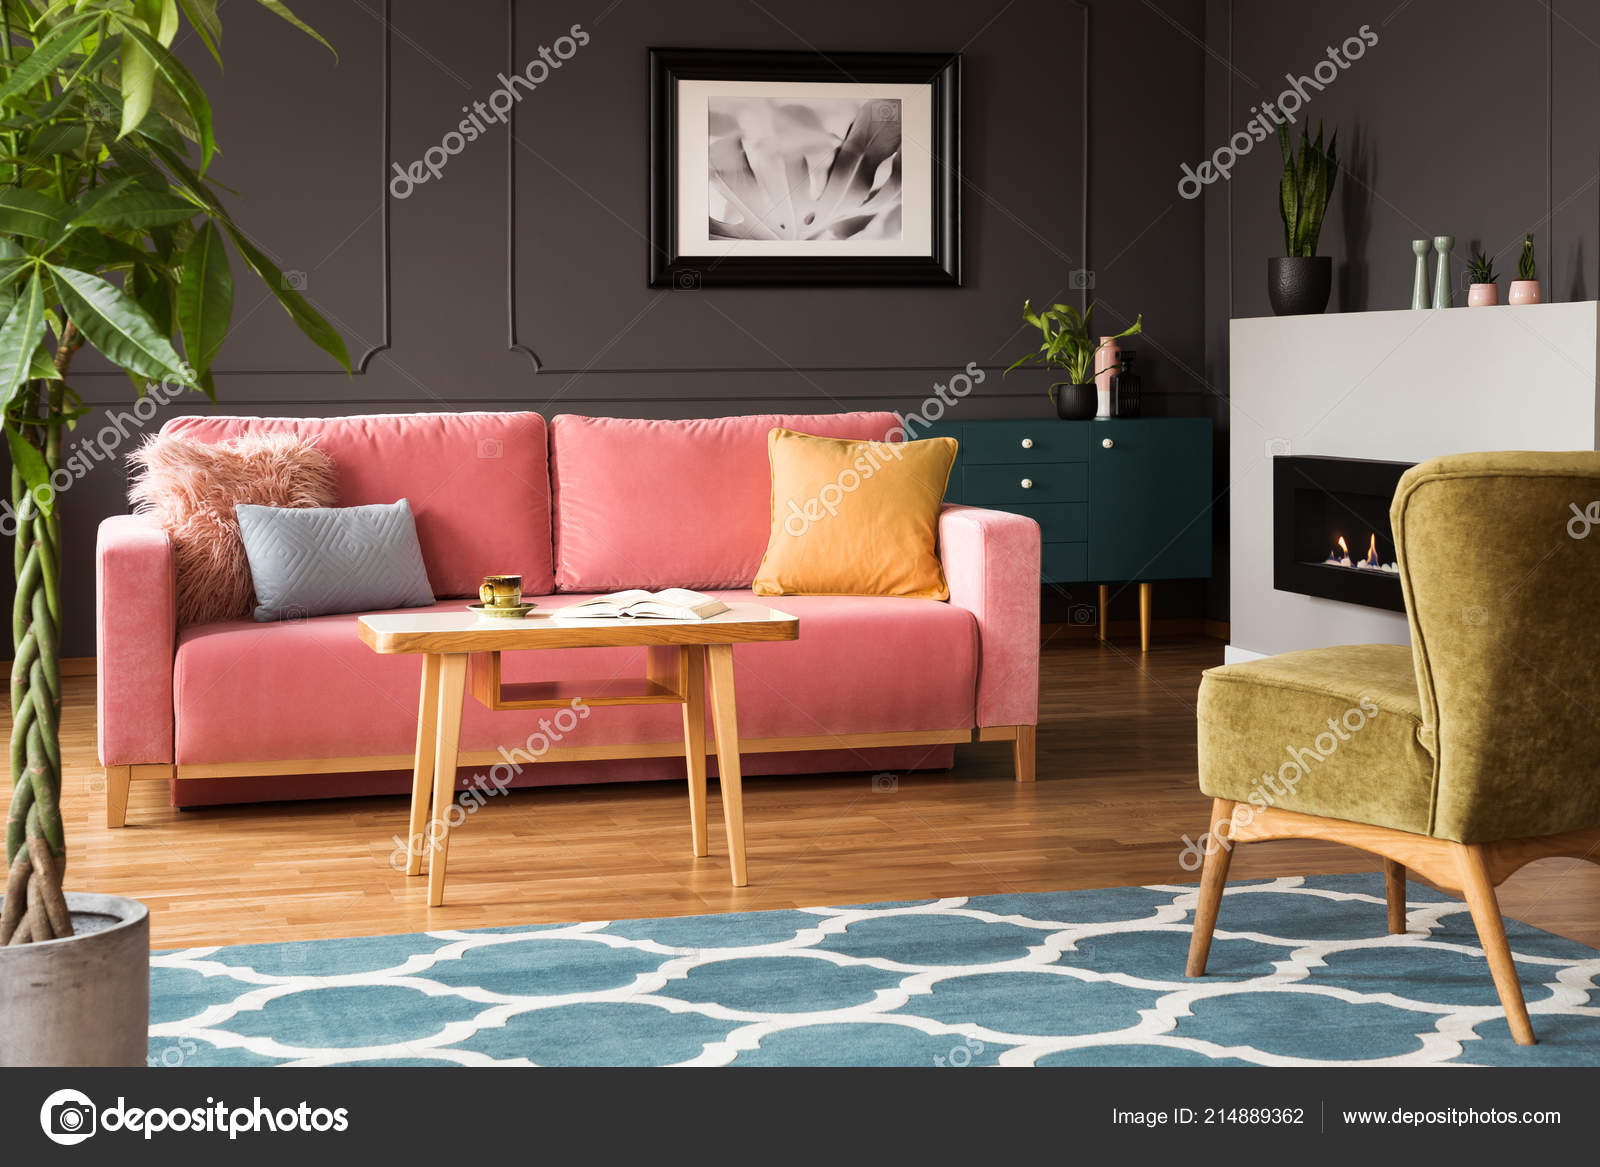biru: (239, 501, 436, 606)
coklat: (357, 608, 791, 895)
hijau: (1234, 466, 1599, 813)
hitam: (1268, 257, 1335, 311), (1053, 383, 1102, 418)
kuning: (765, 431, 950, 605)
pink: (169, 409, 476, 769), (482, 415, 757, 582)
